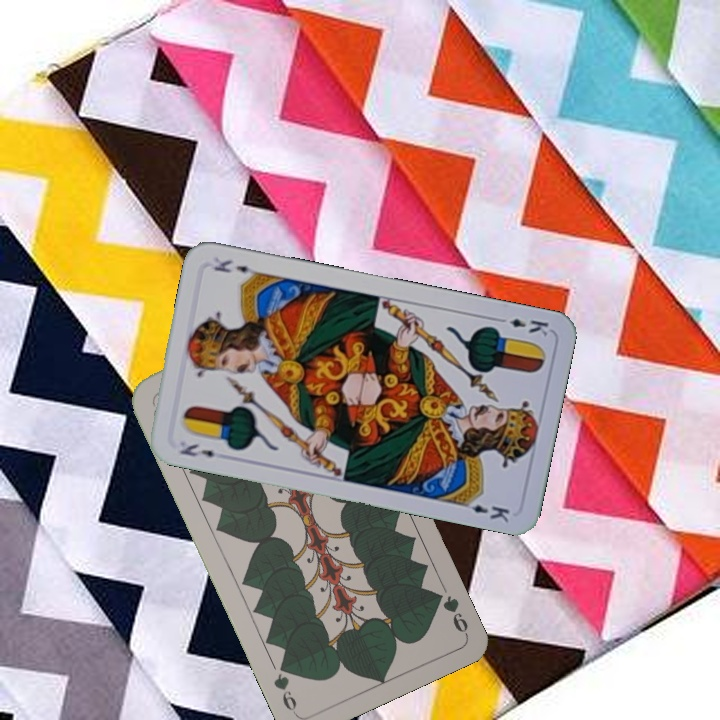EK: (492, 313, 551, 339), (176, 439, 217, 460)
G9: (429, 587, 471, 638)
